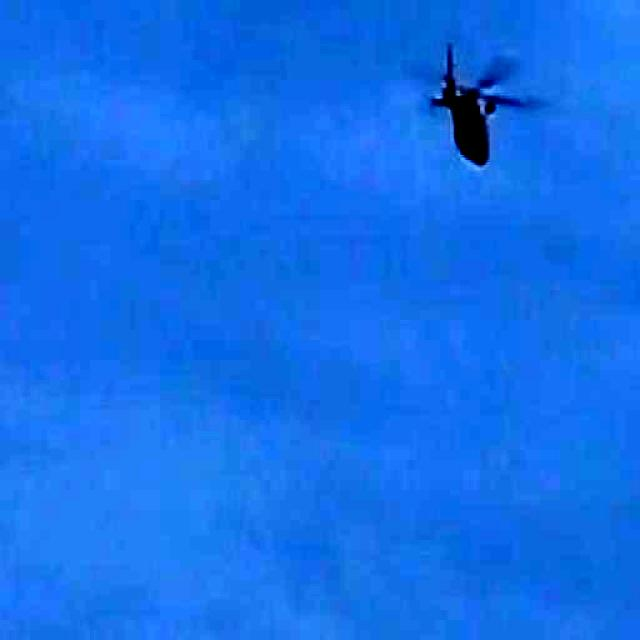drone: (419, 28, 544, 180)
